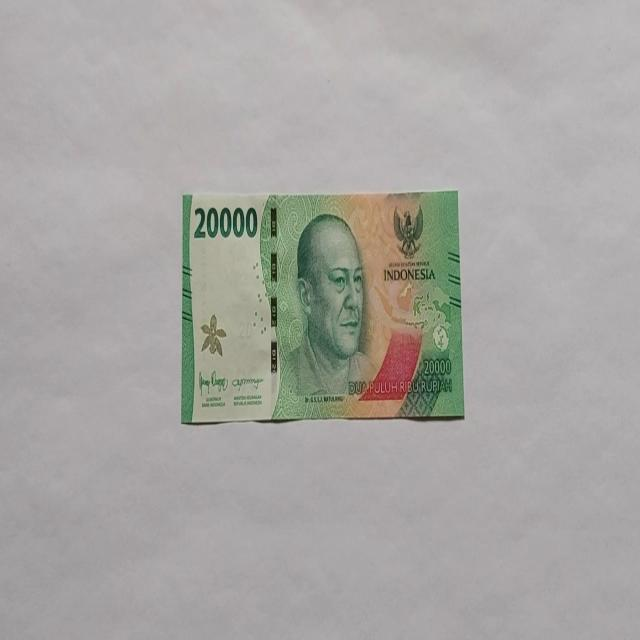dua puluh ribu rupiah: (180, 188, 464, 424), (274, 211, 378, 416)
